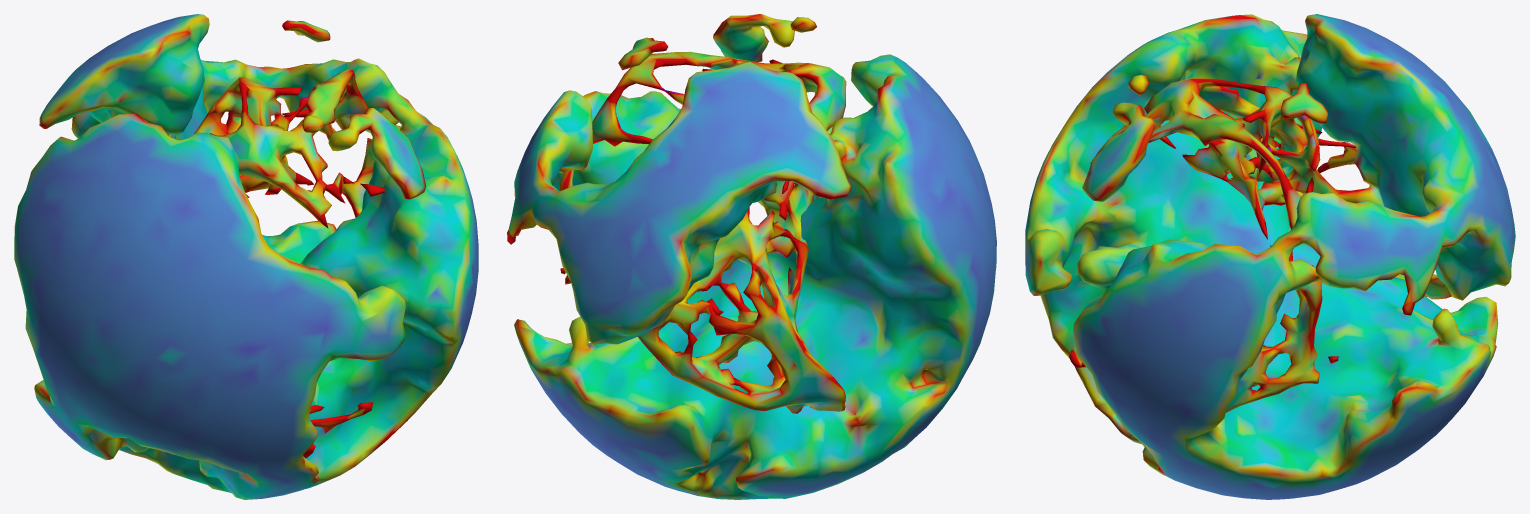
The model's file is blob.glb.
3 renders of one model, left to right at view 1: azimuth 30°, elevation 25°; view 2: azimuth 150°, elevation 25°; view 3: azimuth 270°, elevation 25°, orthographic.
Visible parts, largest first — view 1: geo; view 2: geo; view 3: geo.
Part boxes in pixels (x1,y1,x2,y2): geo: (14, 14, 478, 499); geo: (507, 14, 996, 499); geo: (1025, 14, 1515, 499).
Bounding box in the file's own units: 2.02 × 1.99 × 2.02.
